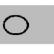no answer: (2, 14, 31, 36)
